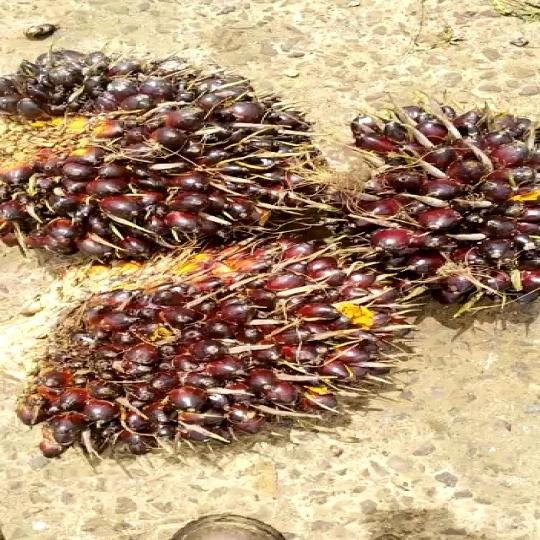kurang masak: (34, 255, 420, 464), (0, 43, 365, 261), (327, 109, 540, 324)
